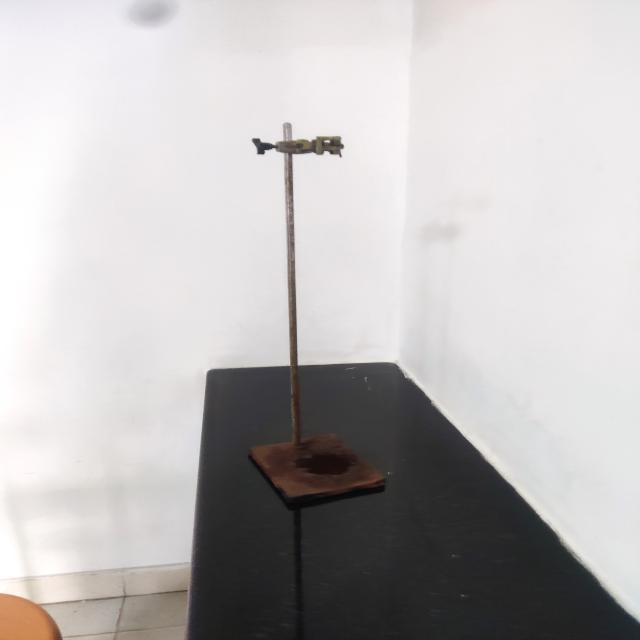Burette_Stands: (226, 92, 423, 520)
